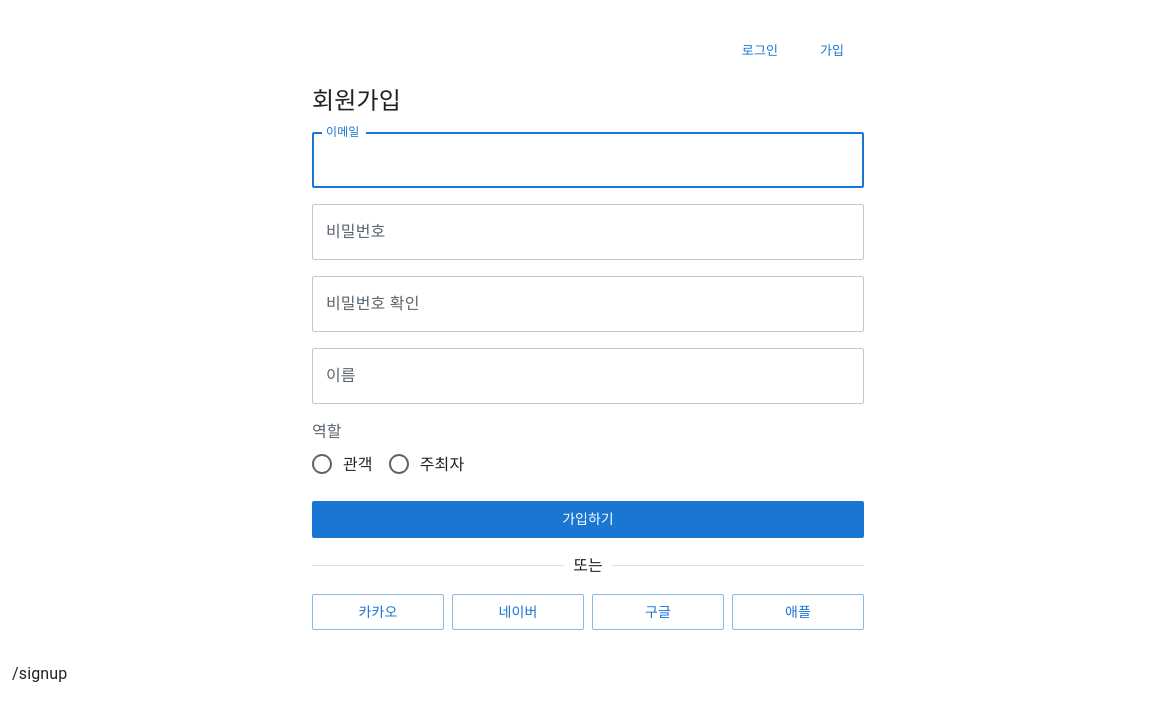
Test: TASK-010 이메일 회원가입/로그인 화면 › SC-07 (error) 필수 입력과 길이 위반은 서버로 보내지 않고 필드 아래에 알린다 — 가입 이메일 빈 값
Type "password1!" into the password field labelled "비밀번호" at point(588, 232), box [312,204,864,260]
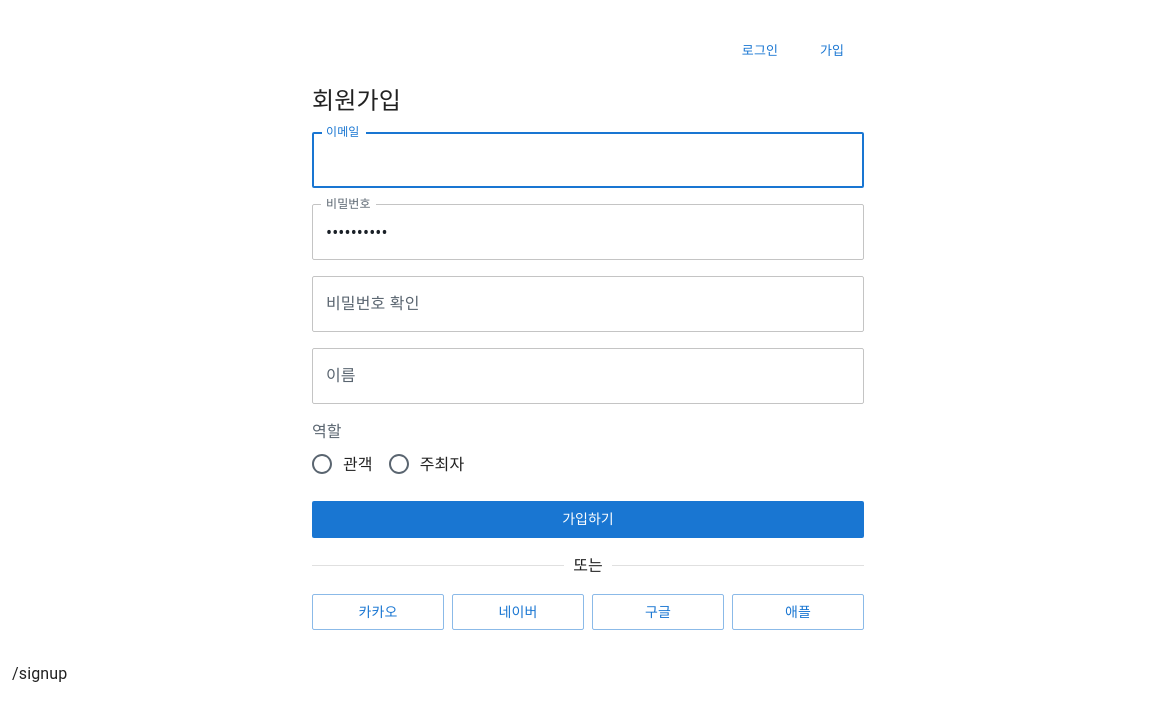
Type "password1!" into the password field labelled "비밀번호 확인" at point(588, 304), box [312,276,864,332]
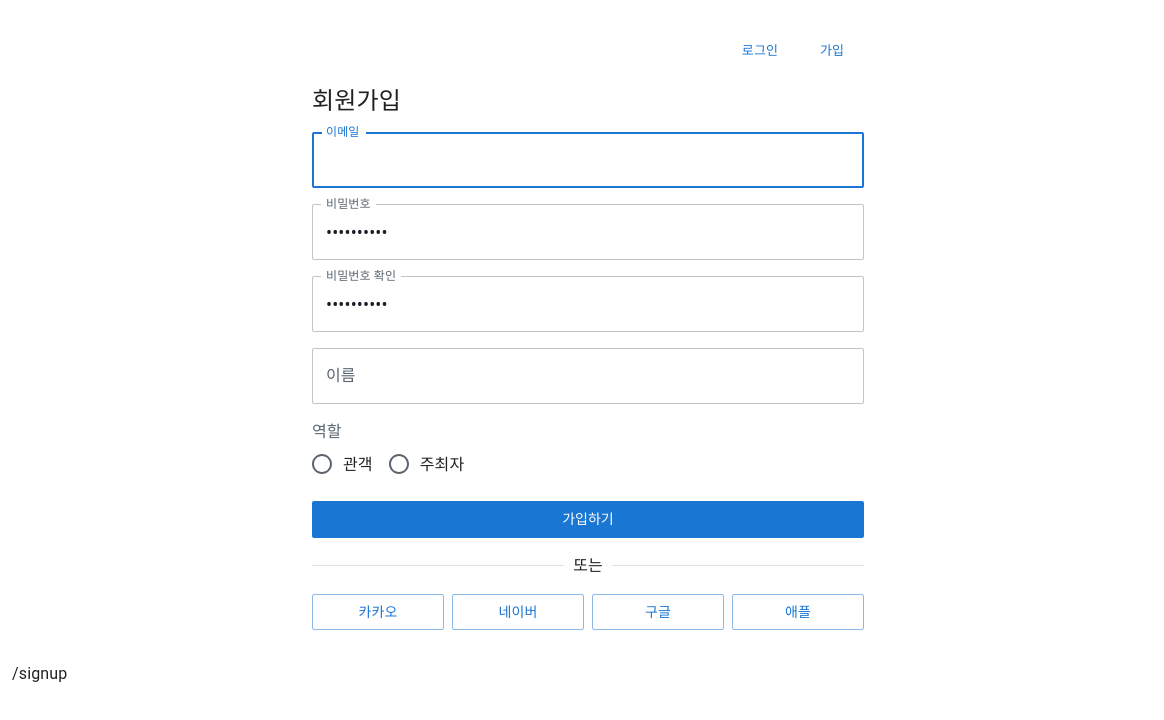
Type "홍길동" into the field labelled "이름" at point(588, 376), box [312,348,864,404]
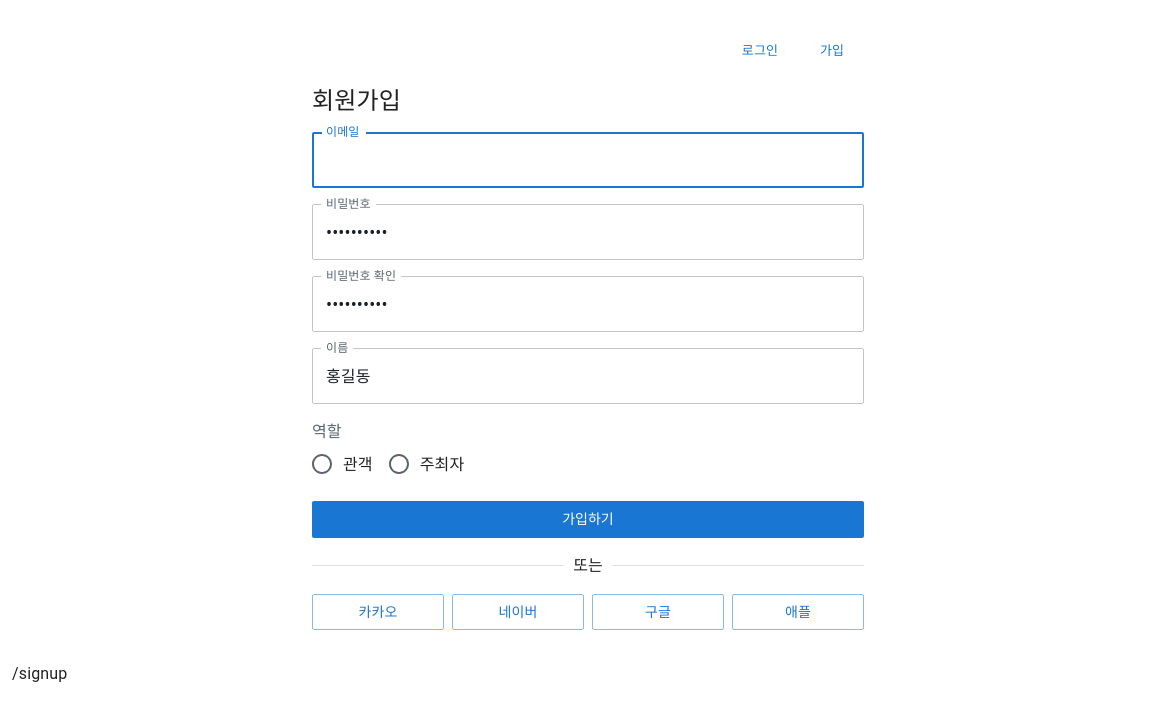
Click the radio button labelled "주최자" at point(426, 464), box [387,452,464,476]
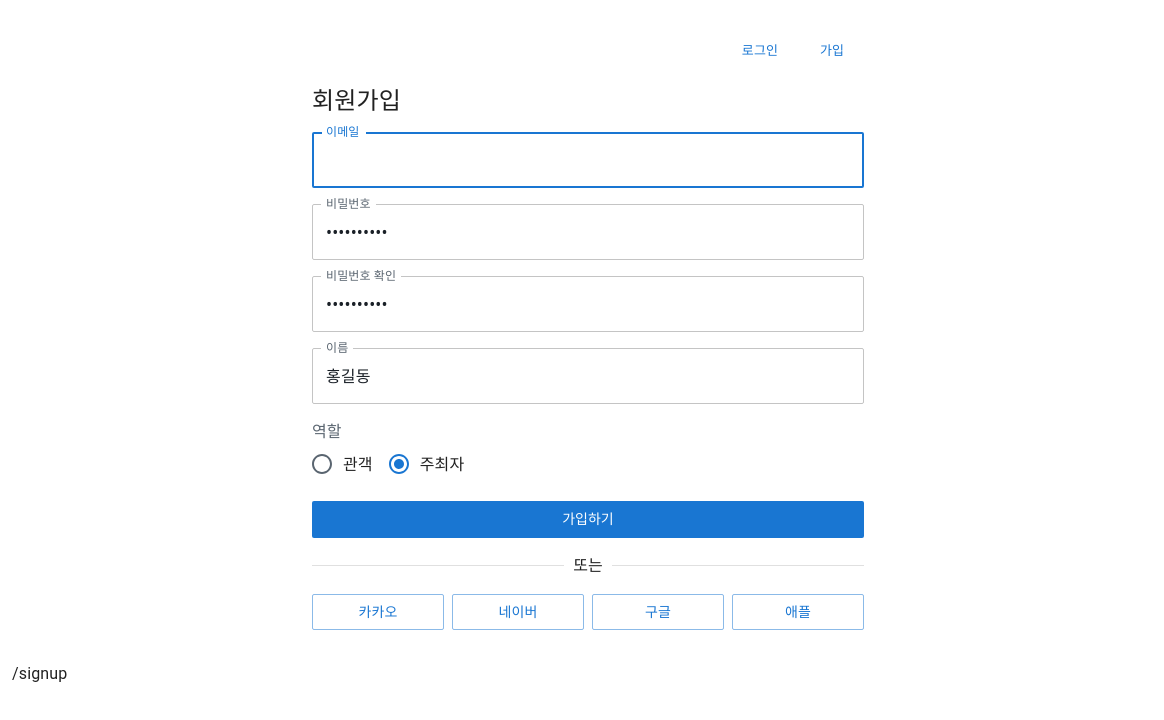
Click the button "가입하기" at point(588, 520), box [312,501,864,538]
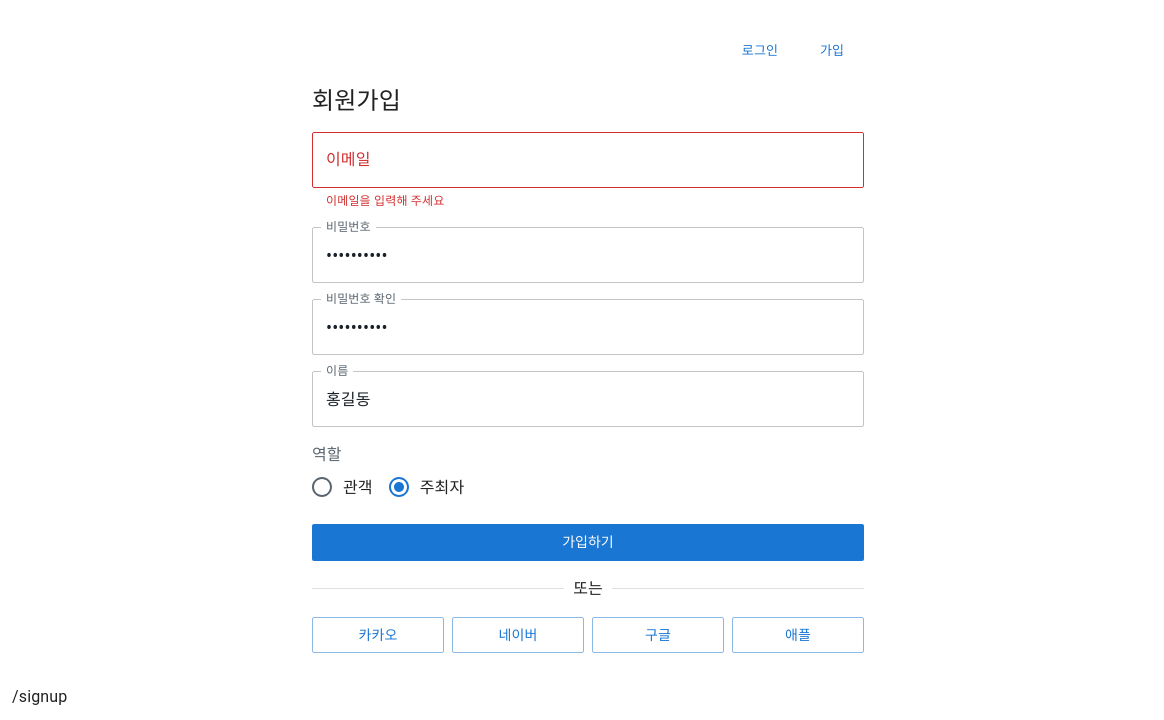
Check: the text "이메일을 입력해 주세요" is shown, box [326,192,444,209]
